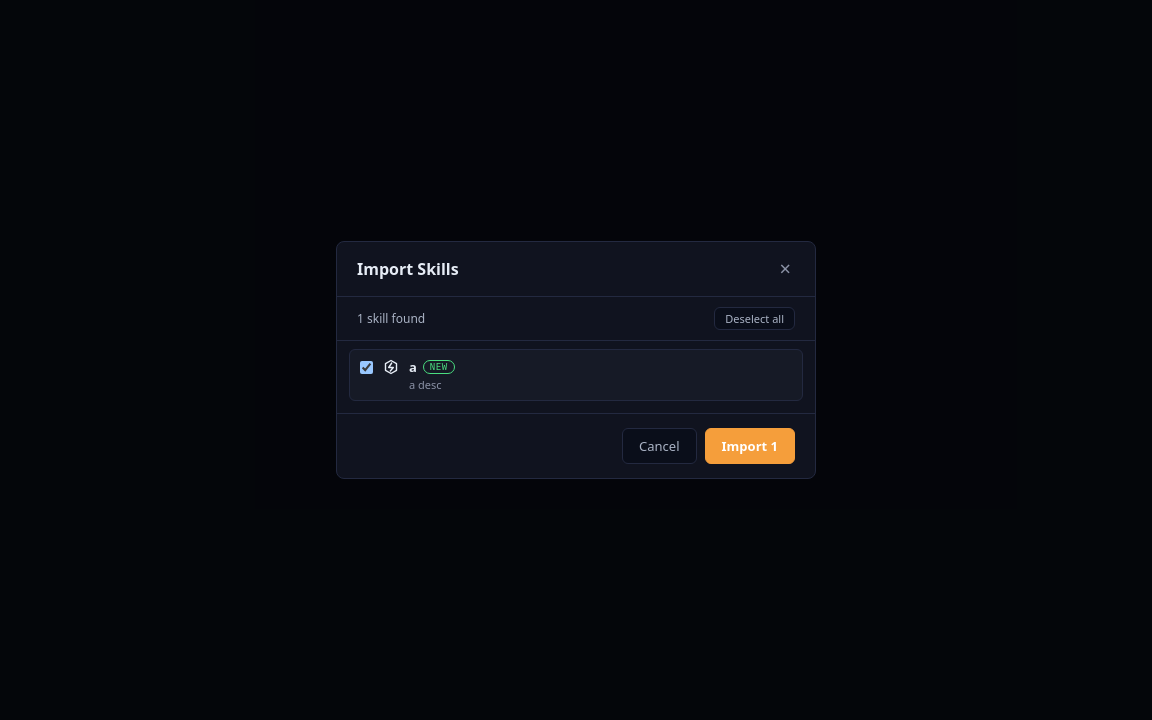
Test: SkillImportModal › disables import when nothing is selected
This screenshot has width=1152, height=720.
Click the button "Deselect all" at (755, 318), box [714, 307, 795, 330]
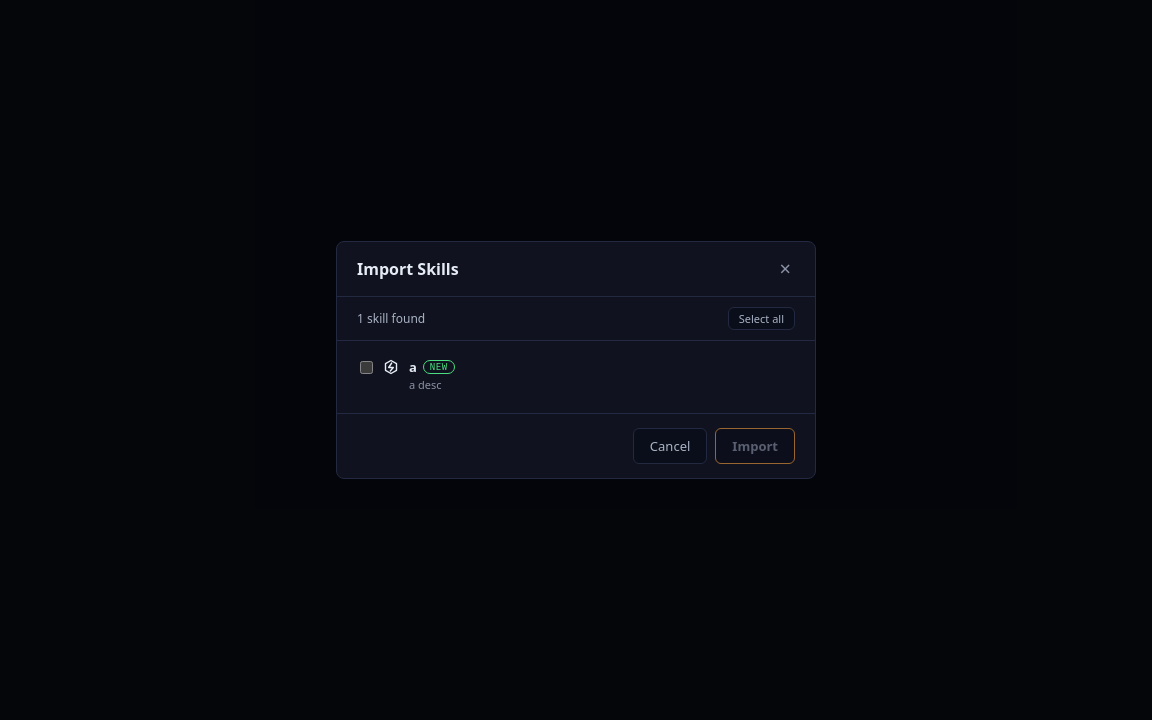
Expected: the button "Import" is disabled, [715, 428, 795, 464]
